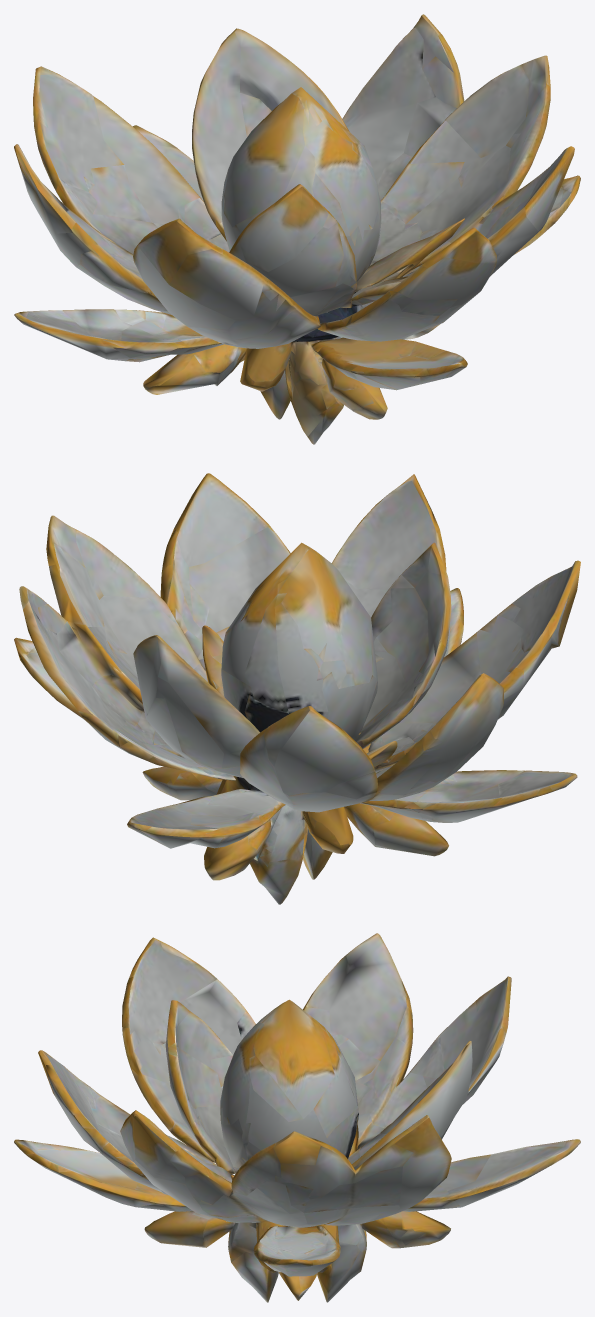
Rendered from alp_hero_oracle_alt.glb.
3 renders of one model, top to bottom at view 1: azimuth 30°, elevation 25°; view 2: azimuth 150°, elevation 25°; view 3: azimuth 270°, elevation 25°, orthographic. The views are drawn at different scales.
Bounding box in the file's own units: 1.9 × 1.12 × 1.9.
Materials: 1 (1 with a texture image).
